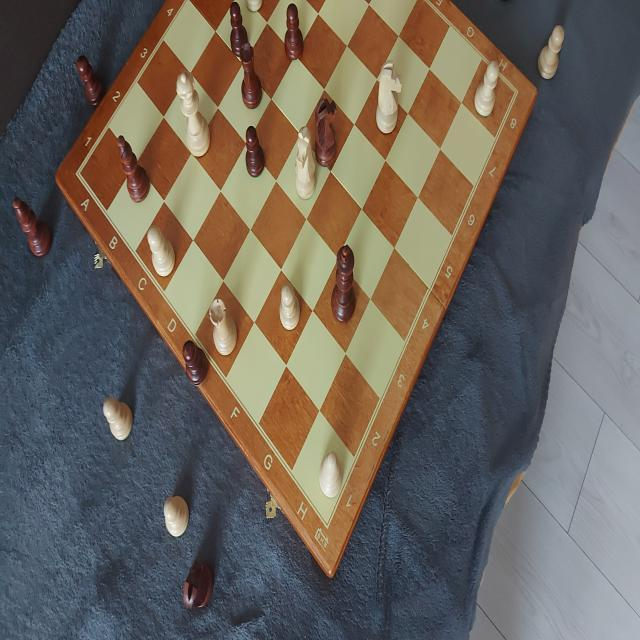chess-table-corners: (316, 510, 336, 540), (72, 162, 90, 192), (508, 84, 525, 110)
